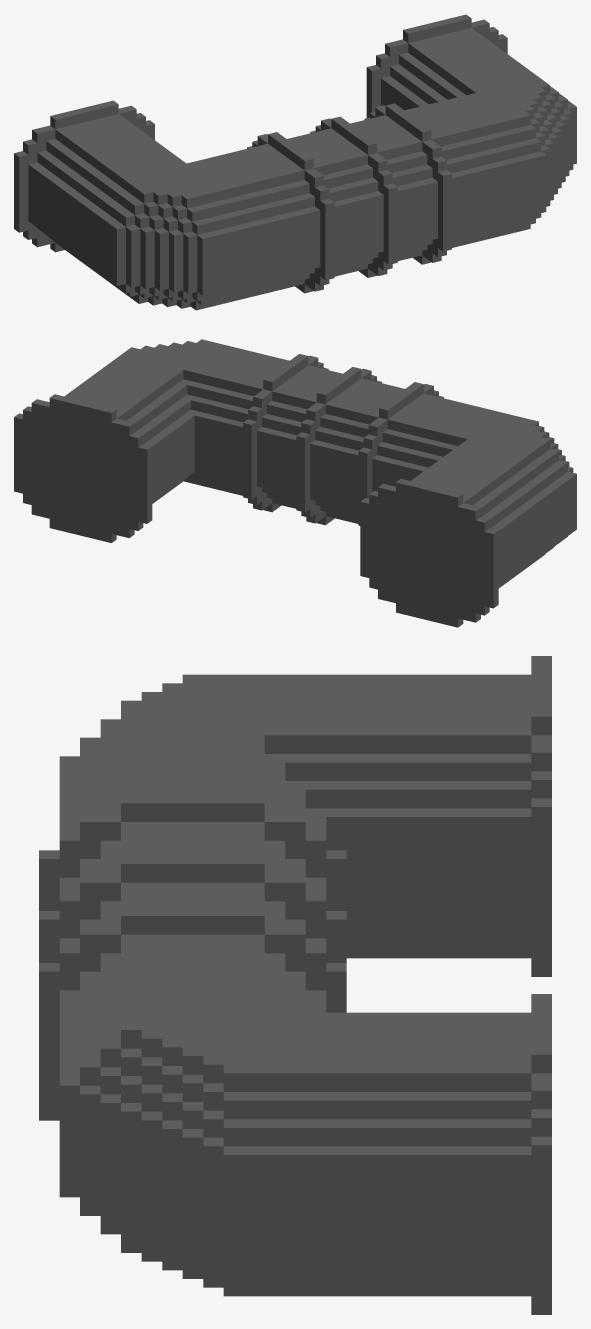
The model's file is wall_pipe_1.obj.
The picture shows the model from 3 angles, top to bottom: view 1: azimuth 30°, elevation 25°; view 2: azimuth 150°, elevation 25°; view 3: azimuth 270°, elevation 25°; orthographic projection. The views are drawn at different scales.
Visible parts, largest first — view 1: wall_pipe_1; view 2: wall_pipe_1; view 3: wall_pipe_1.
Boxes of the visible parts, <box> form: wall_pipe_1: <box>14,14,576,310</box>; wall_pipe_1: <box>14,339,576,627</box>; wall_pipe_1: <box>39,656,551,1314</box>.
Bounding box in the file's own units: 54 × 14 × 25.
Materials: 1 (1 with a texture image).
